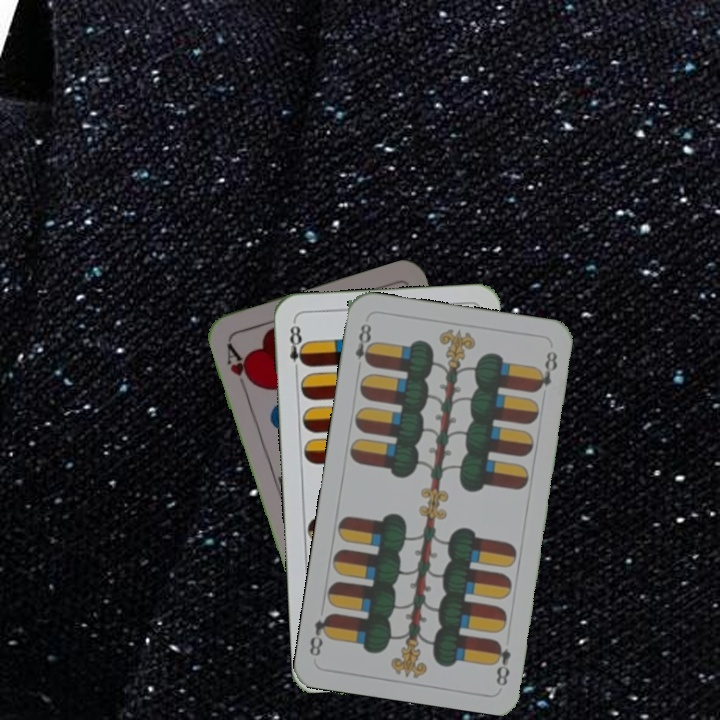E8: (285, 318, 309, 377), (351, 319, 376, 375), (489, 636, 514, 689)
HA: (222, 338, 256, 395)
